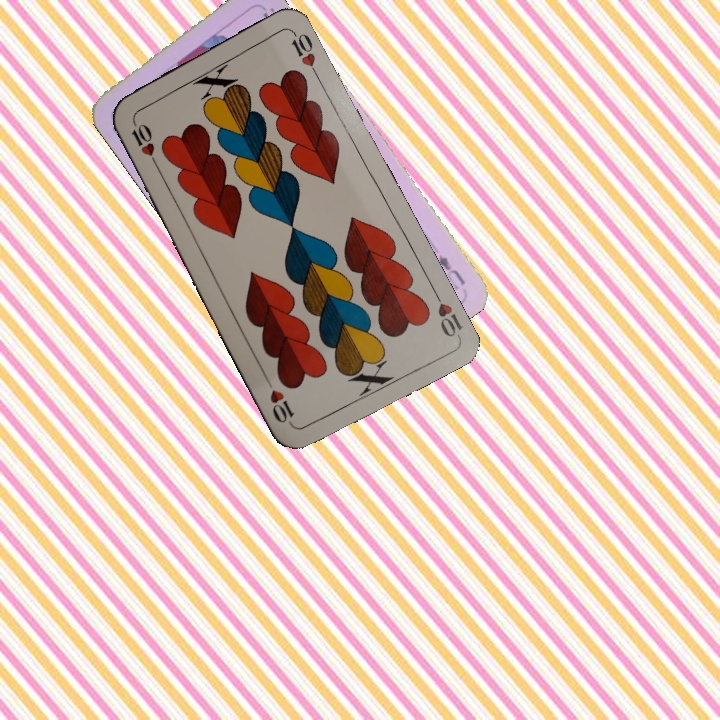EU: (434, 250, 469, 293)
H10: (428, 284, 464, 340), (128, 116, 161, 171)
